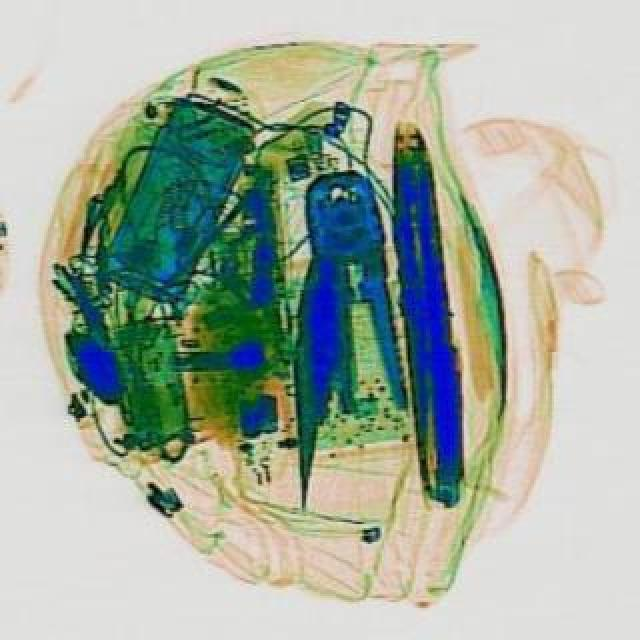wrench: (276, 172, 422, 512)
